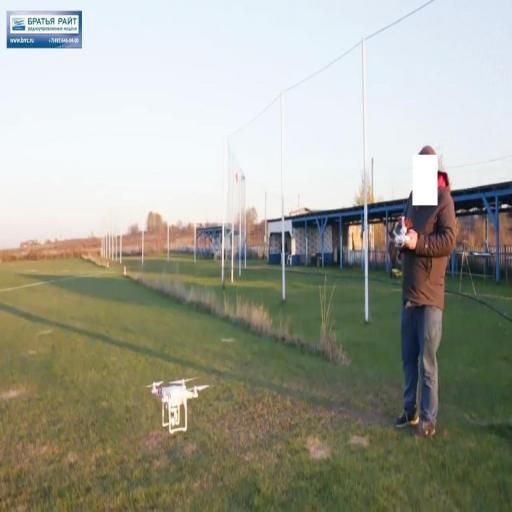drone: (150, 372, 204, 434)
